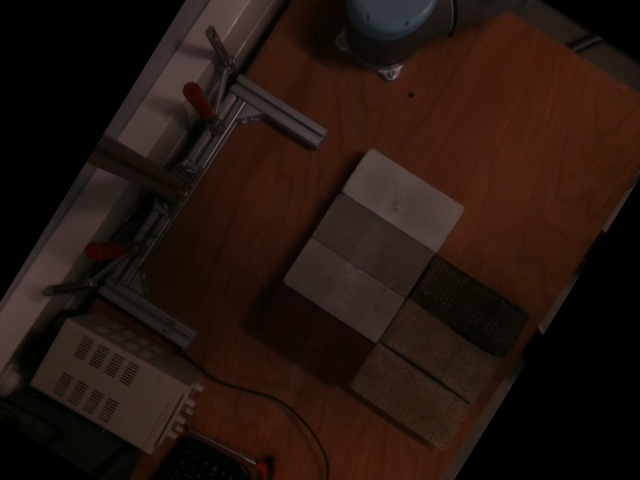brick: (342, 149, 464, 253), (284, 240, 406, 344), (313, 195, 434, 299), (352, 347, 473, 451), (382, 302, 503, 406)
